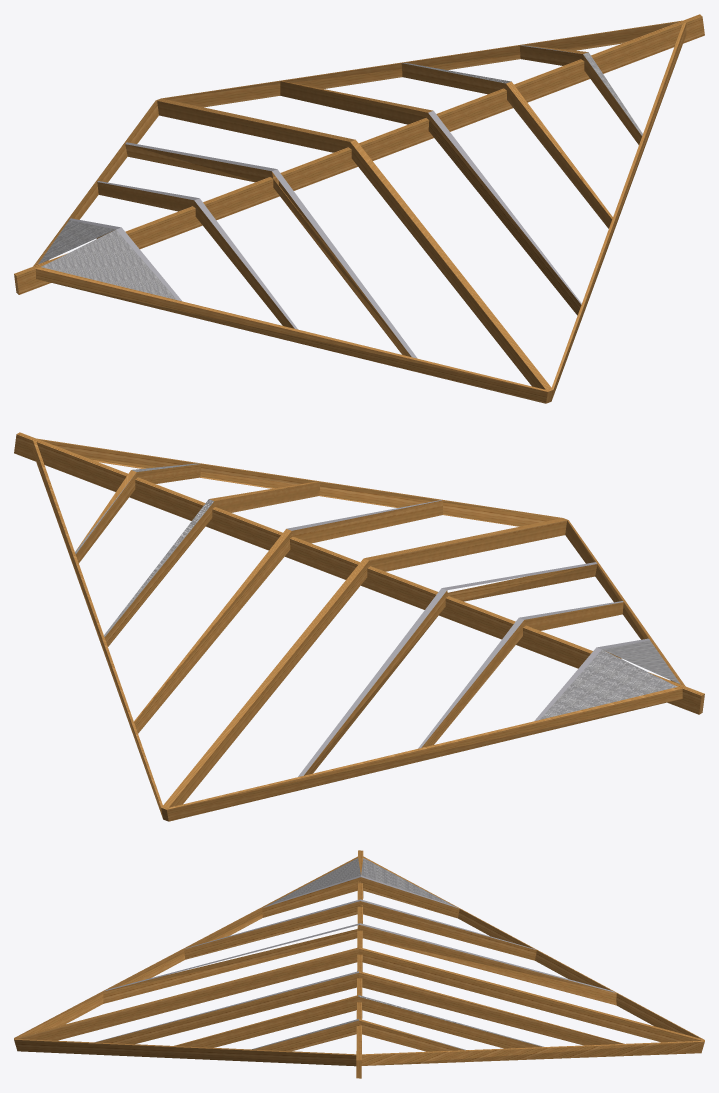
File: Крыша(test)1.fbx
3 renders of one model, top to bottom at view 1: azimuth 30°, elevation 25°; view 2: azimuth 150°, elevation 25°; view 3: azimuth 270°, elevation 25°, orthographic. The views are drawn at different scales.
Visible parts, largest first — view 1: МеталлКрыша; view 2: МеталлКрыша; view 3: МеталлКрыша.
Part boxes in pixels (left/top/right/bottom): МеталлКрыша: left=14, top=14, right=704, bottom=403; МеталлКрыша: left=14, top=432, right=704, bottom=821; МеталлКрыша: left=14, top=850, right=704, bottom=1078.
Size of the model in its own units: 886 by 196 by 885.
